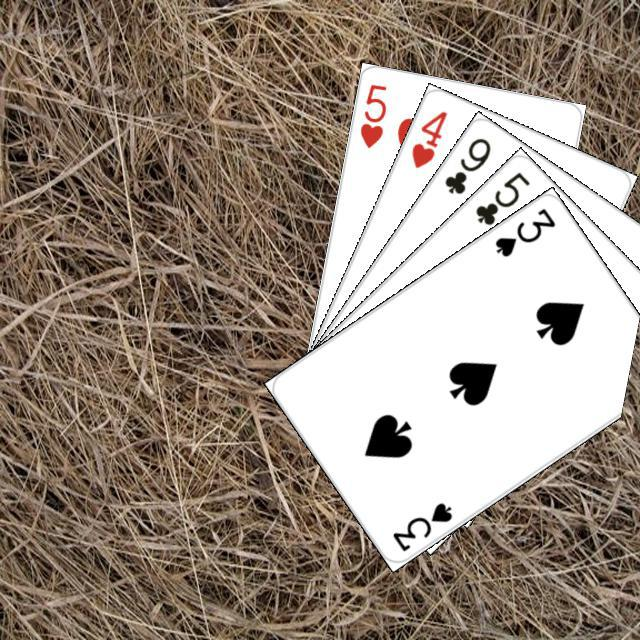3s: (387, 497, 455, 554), (489, 203, 557, 259)
4h: (406, 106, 449, 170)
5c: (470, 167, 532, 228)
5h: (355, 79, 388, 150)
9c: (439, 132, 493, 196)
